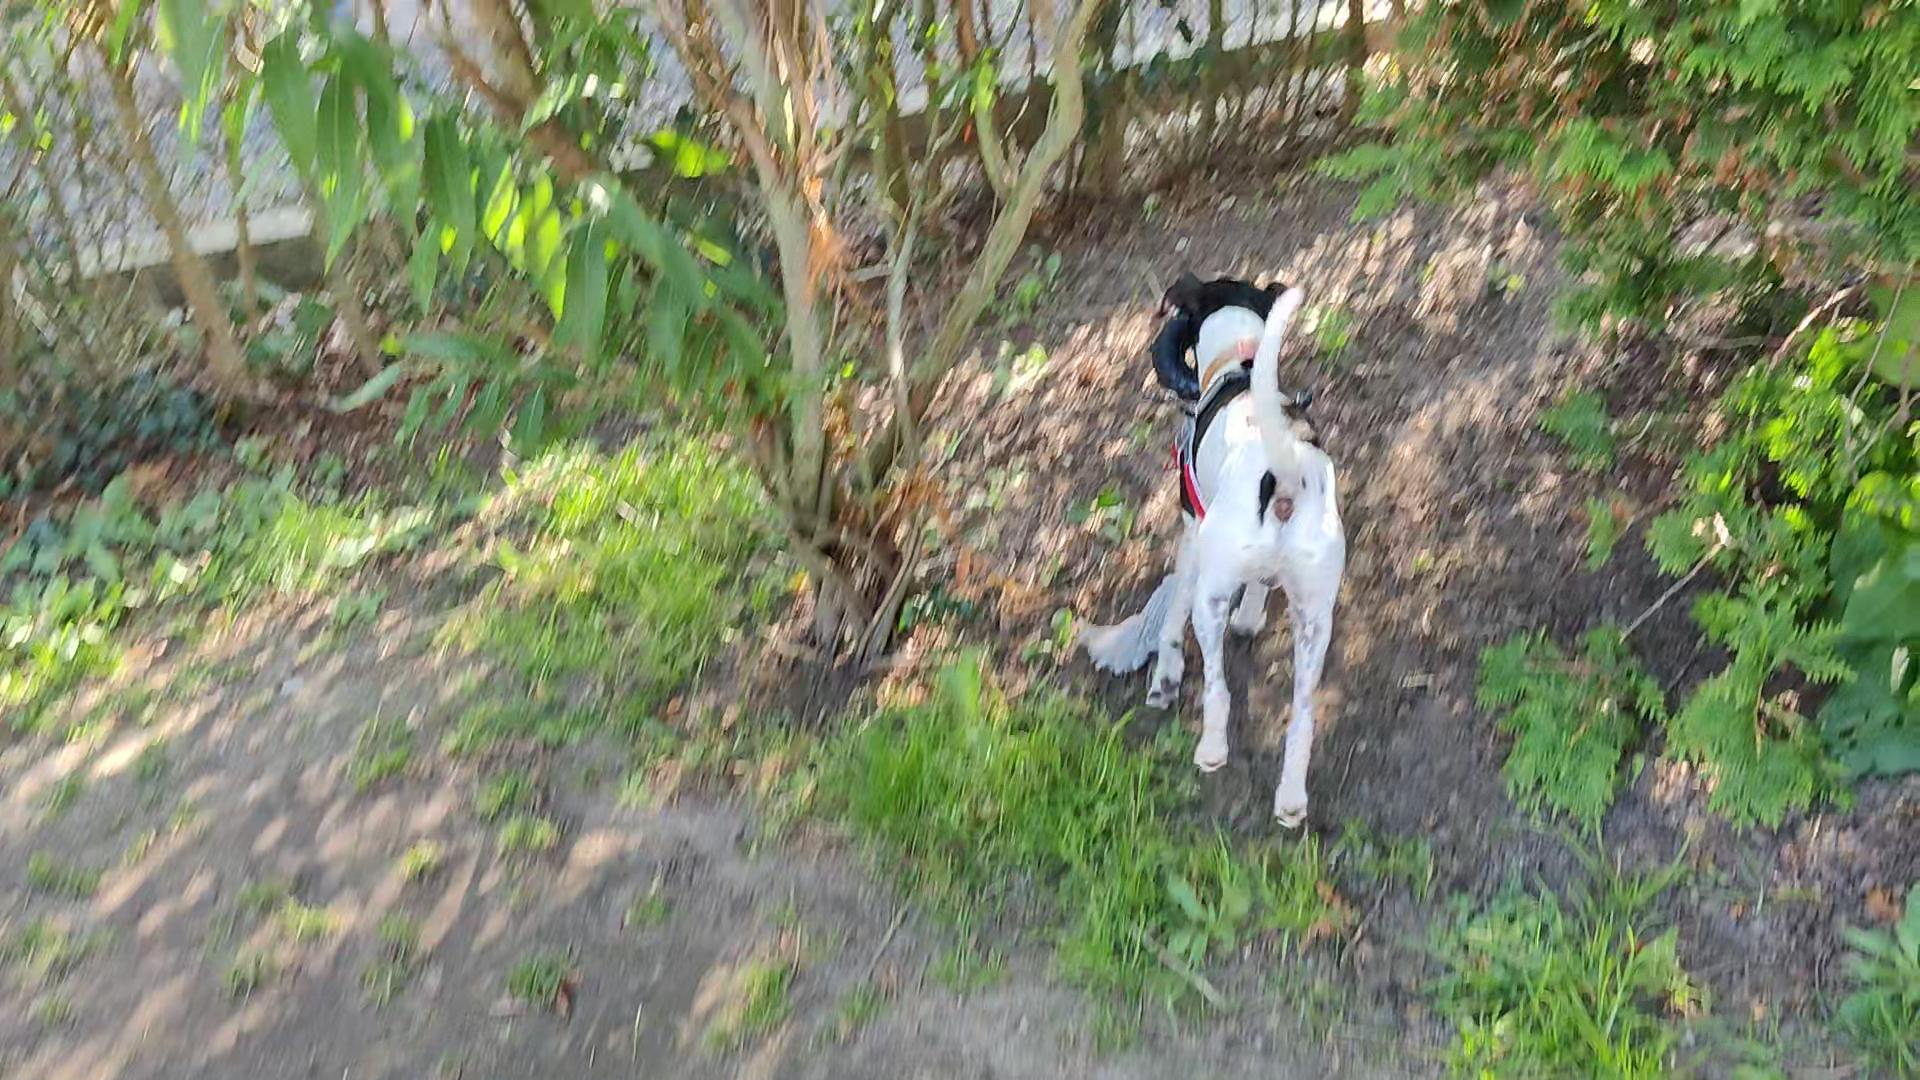Dog: (1121, 251, 1371, 839)
